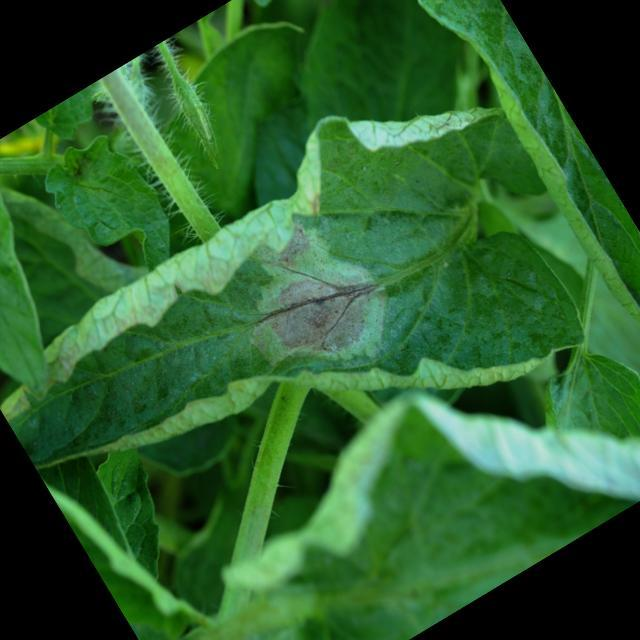Tomato healthy leaf: (0, 150, 103, 414)
Tomato late blight leaf: (0, 45, 603, 608)
